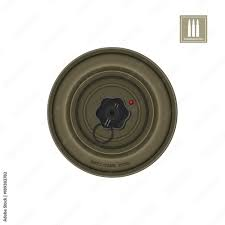car: (42, 41, 181, 182)
